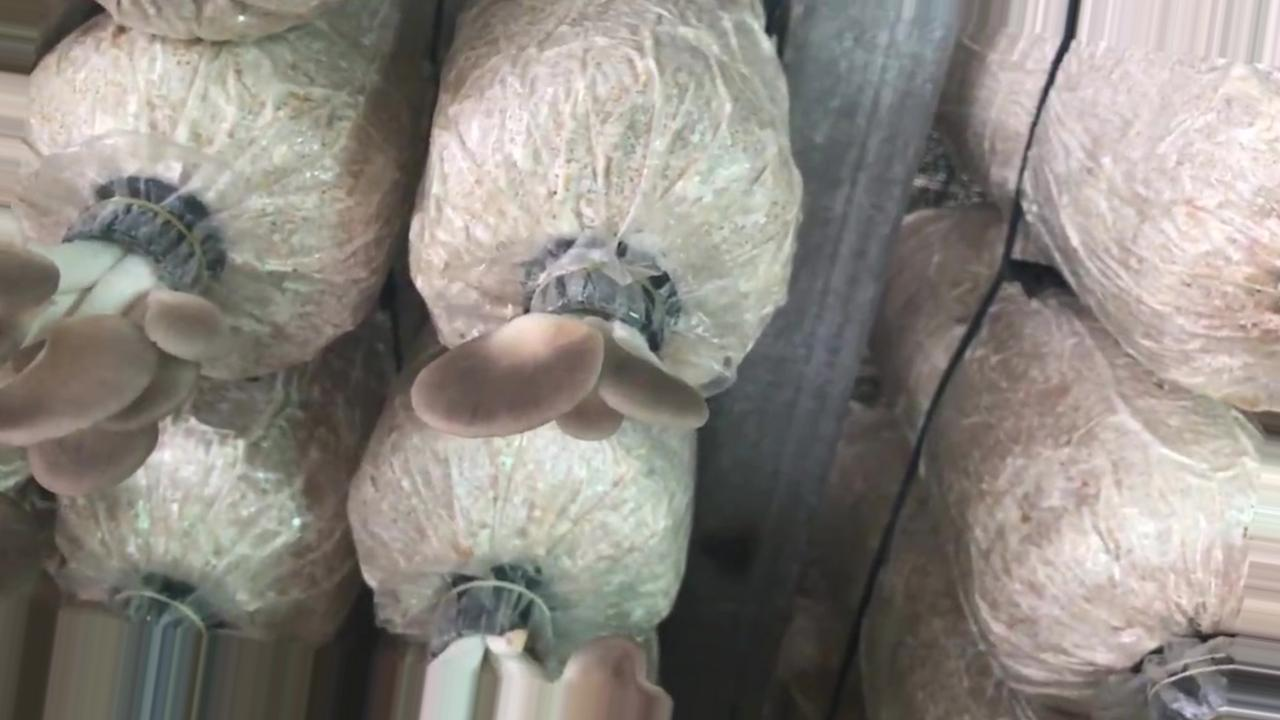nam: (1, 205, 231, 487), (417, 255, 703, 445)
